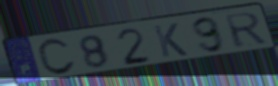2: (116, 27, 153, 67)
8: (78, 33, 112, 70)
9: (190, 15, 227, 54)
C: (36, 37, 79, 77)
K: (151, 22, 190, 59)
R: (222, 11, 270, 50)
